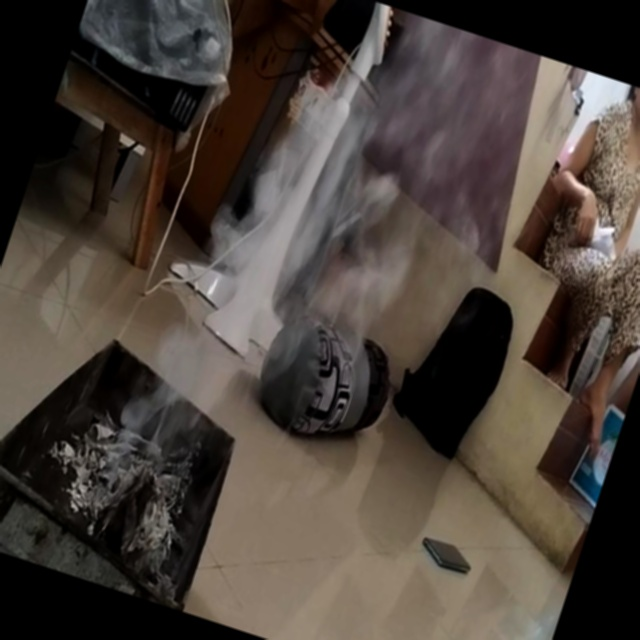smoke: (232, 0, 494, 325), (60, 256, 278, 553)
